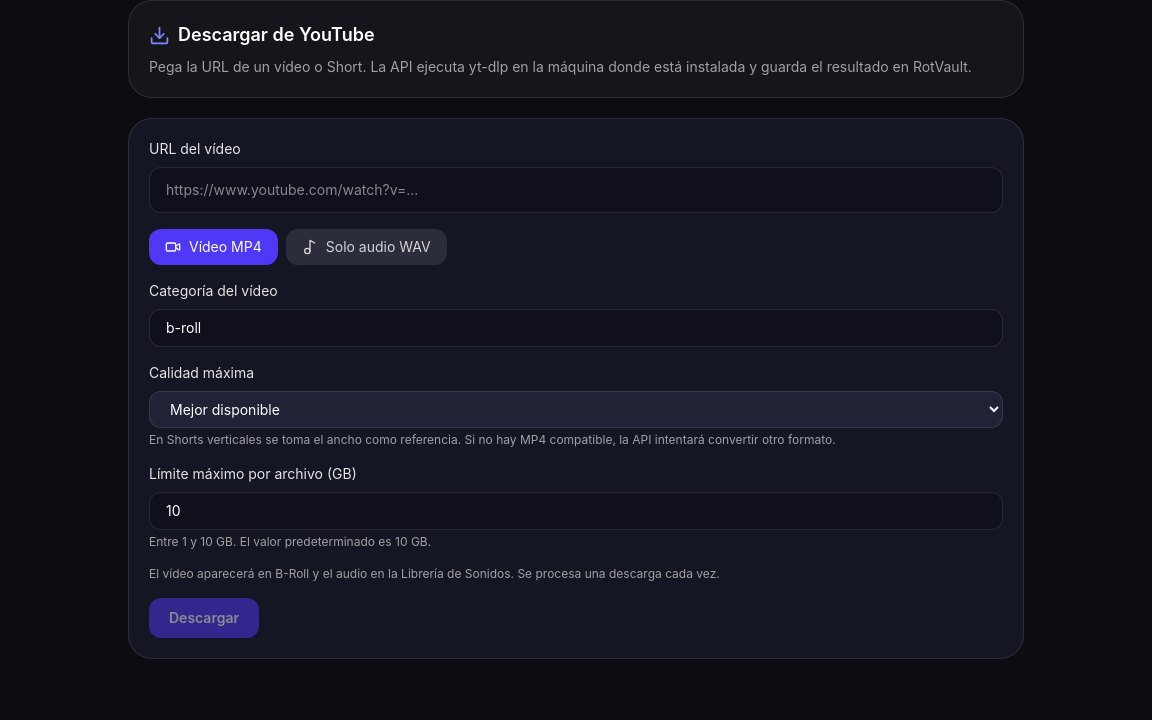
Test: DownloadHub › impide pedir un archivo por encima de 10 GB
In the field with placeholder "https://www.youtube.com/watch?v=...": point(576, 190) [149,167,1003,213], type "https://www.youtube.com/watch?v=abcdefghijk"
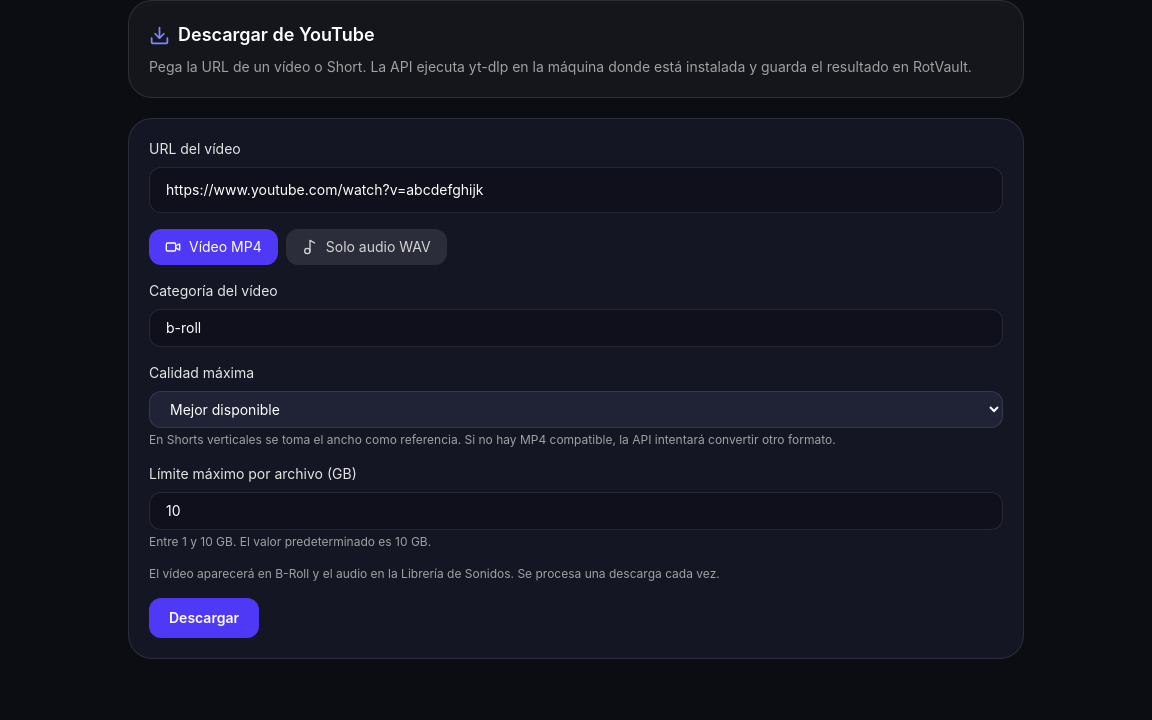
Replace the text in the number field labelled "Límite máximo por archivo (GB)" with "11": point(576, 511) [149,492,1003,530]
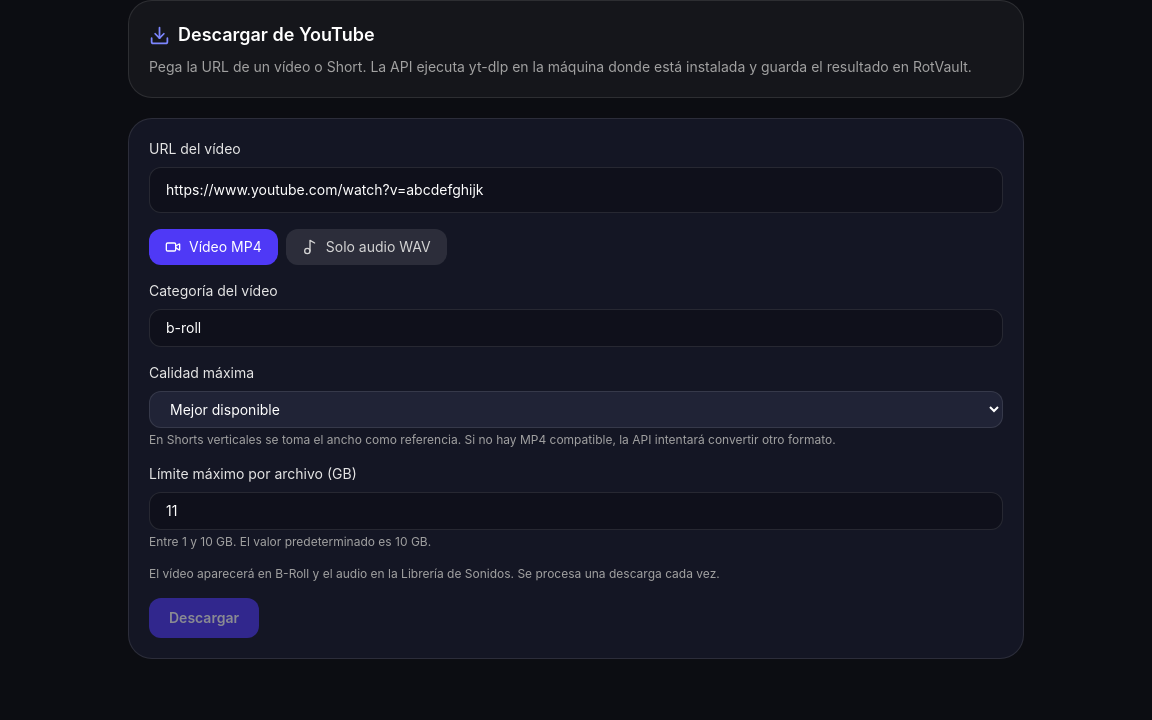
Result: the button "Descargar" is disabled at [149,598,259,638]
